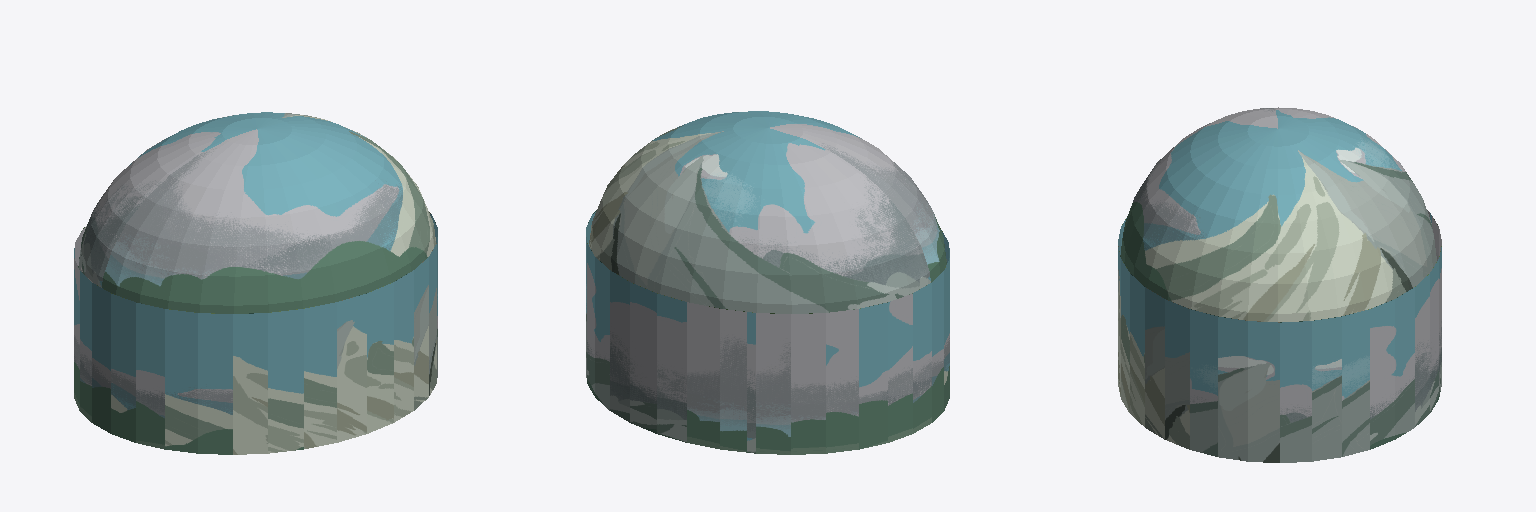
3 views of the same model, side by side, from view 1: azimuth 30°, elevation 25°; view 2: azimuth 150°, elevation 25°; view 3: azimuth 270°, elevation 25° (orthographic).
Parts seen in each view (by area): view 1: Sphere; view 2: Sphere; view 3: Sphere.
Boxes of the visible parts, x1,y1,x2,y2 form: Sphere: [74, 112, 437, 454]; Sphere: [586, 111, 949, 454]; Sphere: [1118, 107, 1441, 462].
Bounding box in the file's own units: 75.91 × 56.55 × 65.22.
Materials: 1 (1 with a texture image).